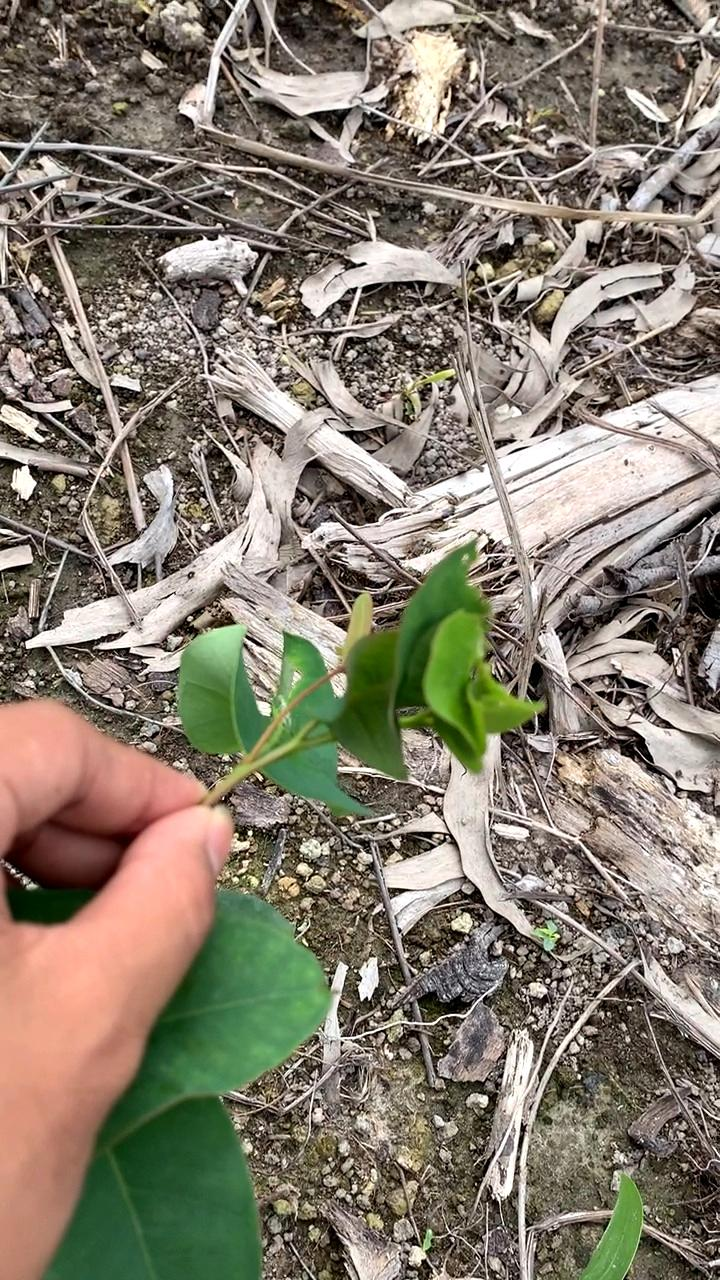Leaf Roller - Leaf: (335, 556, 551, 791)
